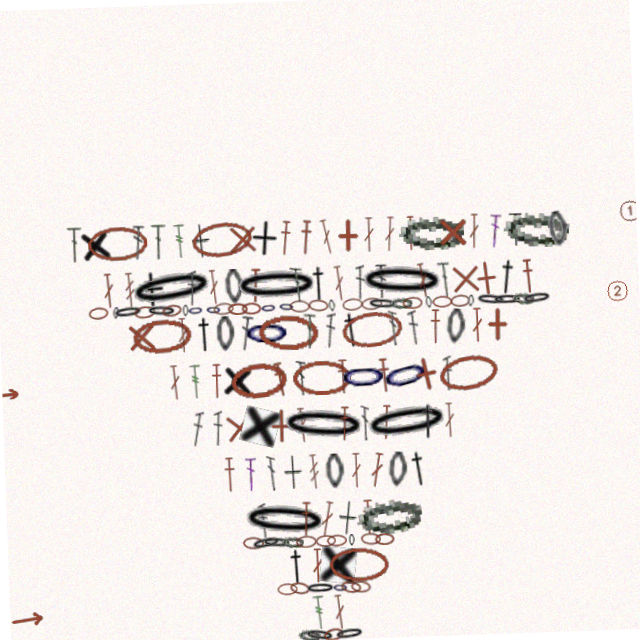chain: (127, 260, 219, 307), (358, 402, 449, 448), (233, 498, 323, 540), (275, 404, 365, 446), (359, 264, 448, 304), (234, 266, 322, 302), (348, 497, 417, 540), (435, 356, 499, 400), (506, 217, 573, 256), (193, 216, 256, 257), (340, 311, 403, 351), (376, 355, 431, 400), (227, 358, 287, 398), (131, 312, 193, 350), (257, 312, 318, 350), (402, 219, 467, 254), (320, 548, 381, 584), (90, 219, 150, 255), (290, 360, 349, 395), (337, 360, 386, 395), (242, 313, 291, 348), (550, 219, 572, 255), (382, 454, 403, 490), (445, 313, 466, 349), (320, 454, 339, 489), (226, 266, 245, 301), (216, 313, 234, 348), (243, 533, 274, 549), (113, 298, 144, 313), (476, 298, 507, 313), (522, 298, 553, 313), (254, 534, 284, 548), (368, 299, 398, 313), (293, 627, 324, 640), (323, 627, 354, 640), (147, 299, 177, 312), (296, 582, 326, 594), (493, 300, 523, 312), (280, 580, 301, 595), (162, 298, 183, 313), (134, 299, 156, 313), (331, 581, 352, 595), (341, 581, 362, 595), (513, 299, 535, 312), (287, 628, 310, 640), (312, 627, 333, 640), (235, 534, 256, 547), (362, 299, 383, 312), (274, 535, 296, 547), (391, 300, 413, 312), (353, 534, 373, 547), (89, 299, 109, 312), (214, 299, 234, 312), (290, 299, 310, 312), (309, 299, 329, 312), (343, 299, 363, 312), (451, 299, 471, 312), (288, 535, 309, 547), (268, 582, 288, 594), (308, 535, 328, 547), (319, 535, 339, 547), (367, 535, 387, 547), (228, 300, 248, 312), (242, 300, 262, 312), (403, 300, 423, 312), (433, 300, 453, 312), (279, 299, 295, 312), (323, 582, 339, 594), (188, 300, 204, 312), (206, 300, 222, 312), (261, 300, 277, 312), (113, 300, 120, 312), (329, 300, 336, 312), (426, 300, 433, 312), (468, 300, 475, 312), (341, 535, 347, 547), (183, 300, 189, 312)
double: (311, 501, 329, 537), (363, 454, 380, 490), (416, 266, 433, 302), (321, 219, 338, 255), (238, 313, 254, 349), (333, 266, 348, 302), (322, 595, 337, 630), (291, 407, 306, 442), (301, 313, 316, 348), (291, 266, 306, 301), (438, 266, 453, 301), (70, 219, 85, 254), (154, 219, 169, 254), (187, 407, 201, 442), (166, 360, 180, 395), (103, 266, 117, 301), (208, 266, 222, 301), (134, 219, 148, 254), (491, 219, 505, 254), (512, 219, 526, 254), (250, 501, 263, 536), (176, 313, 189, 348), (407, 313, 420, 348), (386, 219, 399, 254), (303, 548, 315, 583), (345, 454, 357, 489), (440, 407, 452, 442), (324, 313, 336, 348), (471, 313, 483, 348), (377, 266, 389, 301), (366, 219, 378, 254), (471, 219, 483, 254), (240, 454, 251, 489), (261, 454, 272, 489), (408, 219, 419, 254), (294, 360, 304, 395), (441, 360, 451, 395), (388, 313, 398, 348), (210, 407, 219, 442), (357, 407, 366, 442), (189, 266, 198, 301), (357, 266, 366, 301)
half_double: (496, 265, 521, 302), (402, 454, 425, 490), (340, 313, 362, 349), (414, 407, 435, 443), (278, 548, 298, 583), (194, 313, 214, 348), (310, 266, 330, 301), (269, 360, 287, 396), (280, 219, 296, 255), (301, 219, 317, 255), (354, 501, 369, 536), (375, 407, 390, 442), (375, 360, 390, 395), (249, 266, 264, 301), (522, 266, 537, 301), (292, 501, 306, 536), (334, 407, 348, 442), (334, 360, 348, 395), (428, 313, 442, 348), (218, 454, 231, 489), (208, 360, 221, 395)
noise: (0, 601, 35, 618), (606, 289, 630, 313), (621, 209, 640, 234), (0, 378, 18, 389)
single: (235, 403, 278, 446), (404, 357, 445, 398), (310, 546, 349, 585), (217, 406, 255, 444), (469, 265, 507, 303), (81, 218, 116, 256), (123, 313, 159, 349), (449, 266, 485, 302), (219, 359, 253, 396), (260, 407, 295, 442), (480, 313, 515, 348), (228, 219, 263, 254), (333, 219, 368, 254), (438, 219, 473, 254), (252, 218, 282, 255), (138, 266, 166, 302), (330, 501, 352, 537), (194, 219, 214, 255), (279, 454, 297, 489)
treble: (302, 595, 316, 630), (302, 454, 316, 489), (124, 266, 138, 301), (187, 360, 200, 395), (176, 219, 189, 254)
